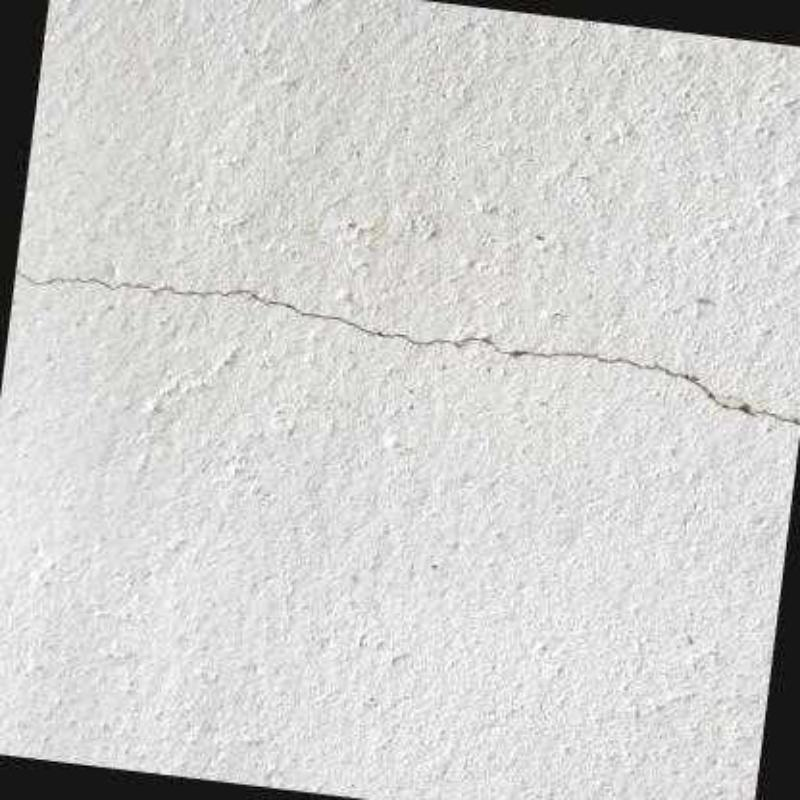pothole: (13, 267, 800, 425)
